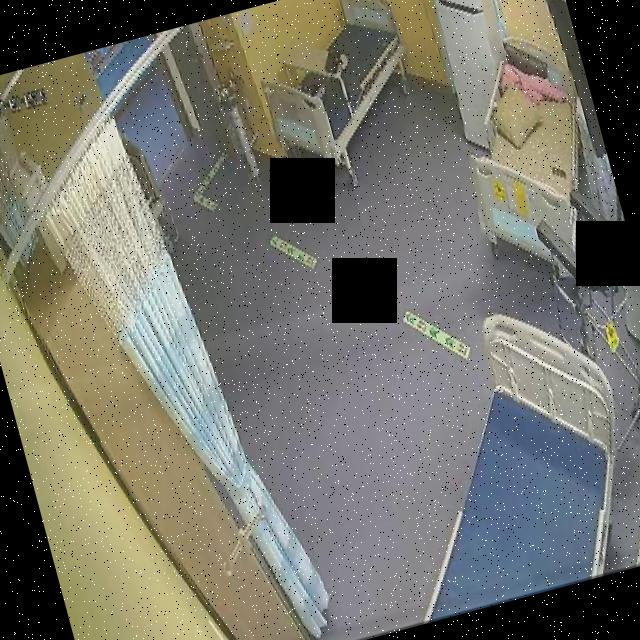bed: (351, 289, 640, 621), (433, 23, 617, 280), (241, 0, 430, 178)
